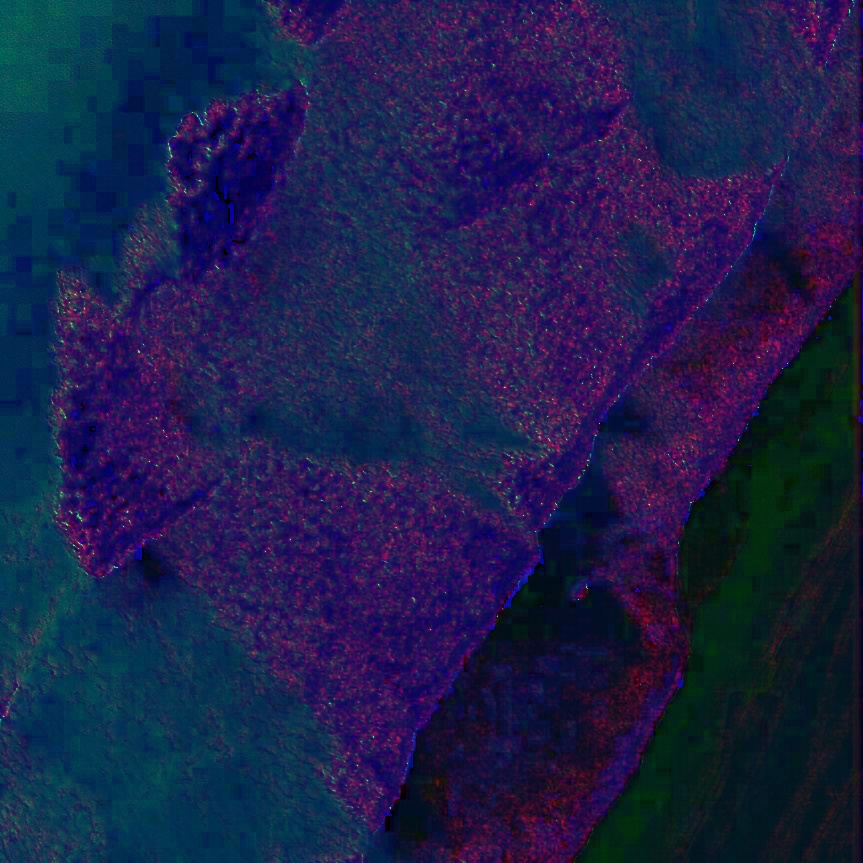rip_current: (122, 325, 642, 584)
